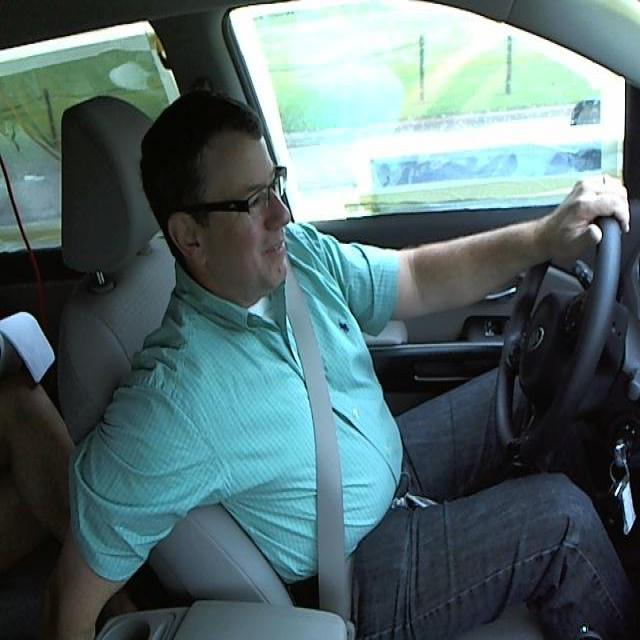seatbelt: (272, 281, 379, 639)
